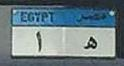1: (35, 30, 44, 53)
haa: (82, 33, 99, 52)
